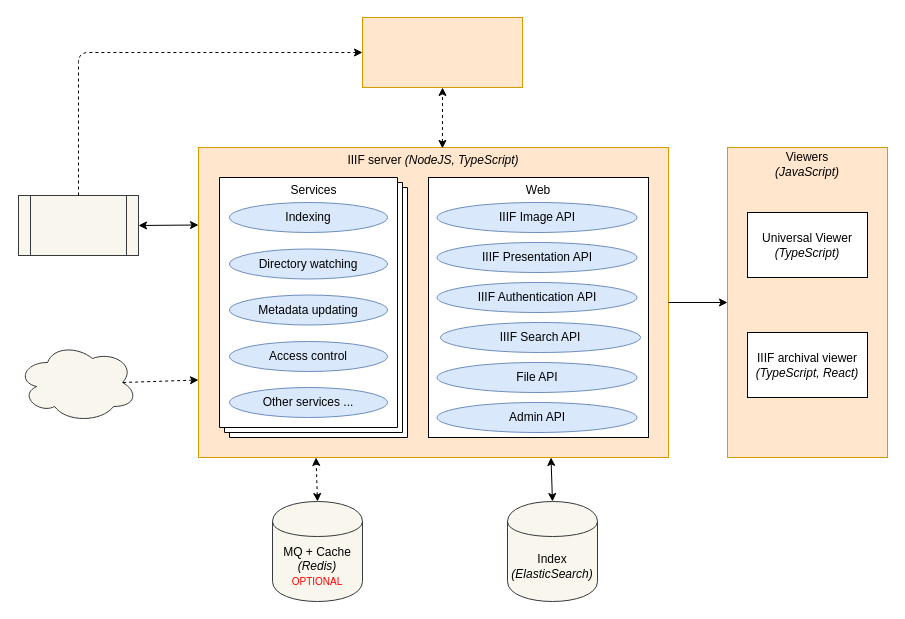
Some shapes in this 905 by 619 pixel diagram are drawn without their labels. The centre of each missing label's shape, as x and y in pixels:
"Collections (NFS mount)" belongs at (x=78, y=225).
"IIIF image server (e.g. Loris) OPTIONAL" belongs at (x=442, y=52).
"Metadata (API) OPTIONAL" belongs at (x=77, y=382).
